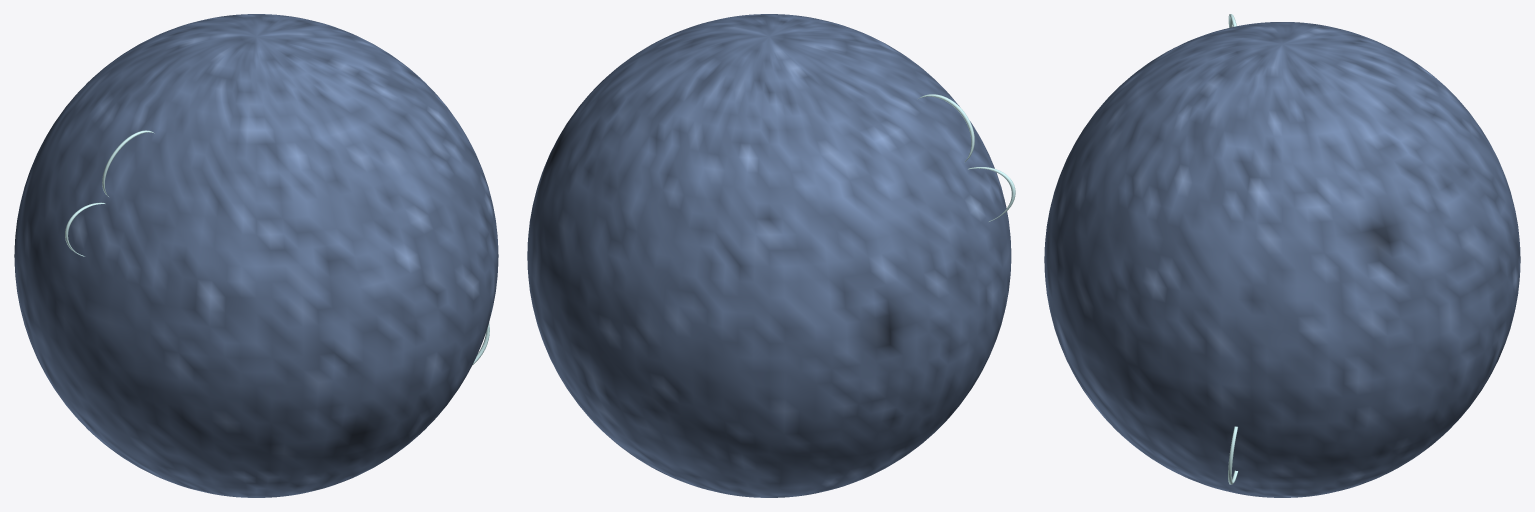
Rendered from Star_28.fbx.
3 views of the same model, side by side, from view 1: azimuth 30°, elevation 25°; view 2: azimuth 150°, elevation 25°; view 3: azimuth 270°, elevation 25° (orthographic).
Parts seen in each view (by area): view 1: Star_28; view 2: Star_28; view 3: Star_28.
Part boxes in pixels (x1,y1,x2,y2): Star_28: [14, 14, 498, 497]; Star_28: [527, 14, 1015, 497]; Star_28: [1044, 14, 1520, 497].
Bounding box in the file's own units: 204 × 200 × 200.
